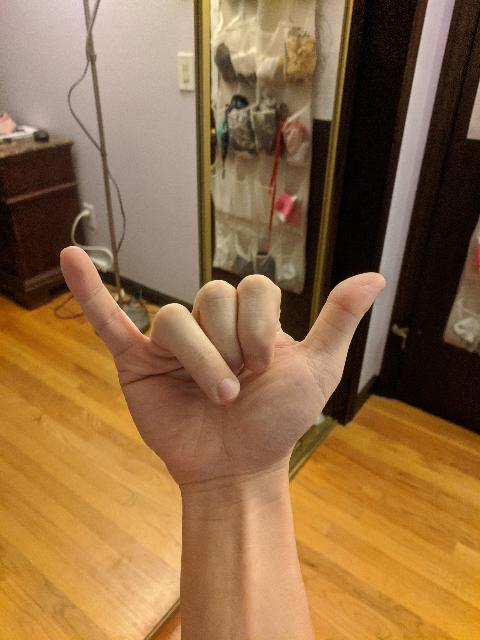Y: (57, 242, 391, 480)
